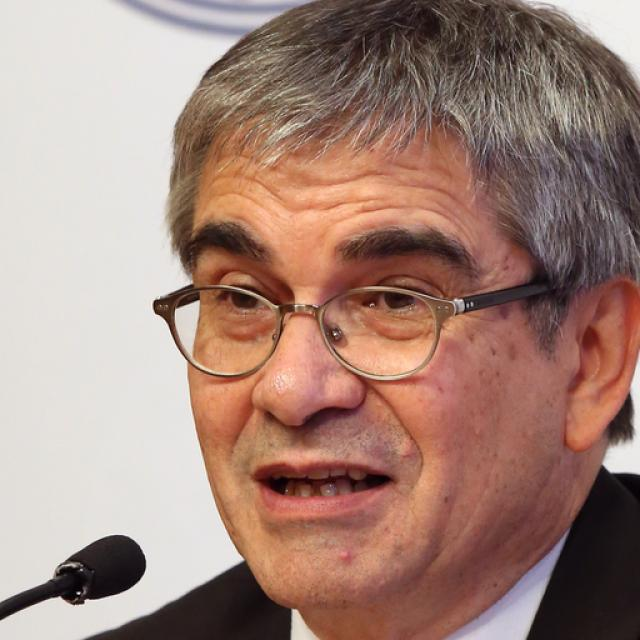Acne: (333, 547, 357, 570), (469, 423, 489, 444), (396, 440, 415, 462)
